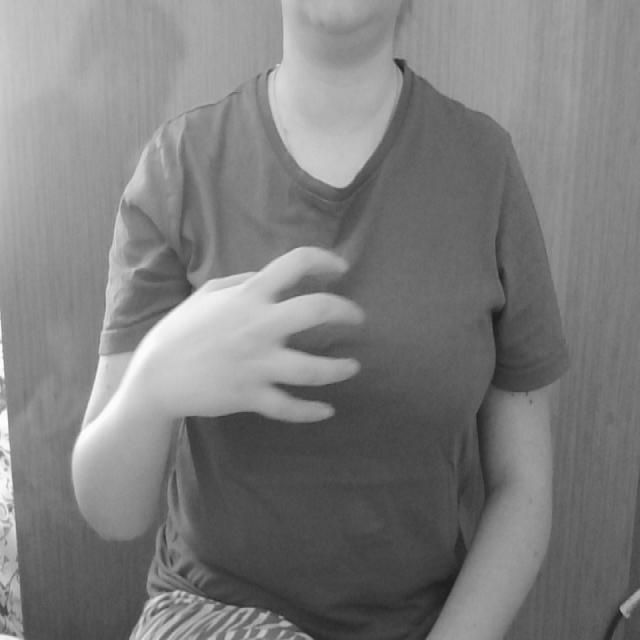Anne: (118, 231, 456, 430)
